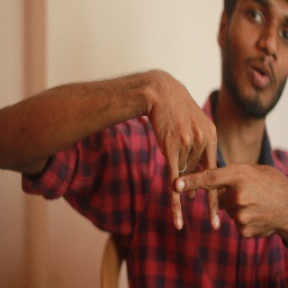H: (146, 128, 248, 242)
